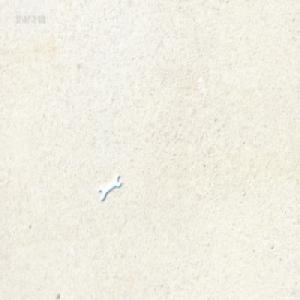Wrench: (98, 172, 121, 201)
